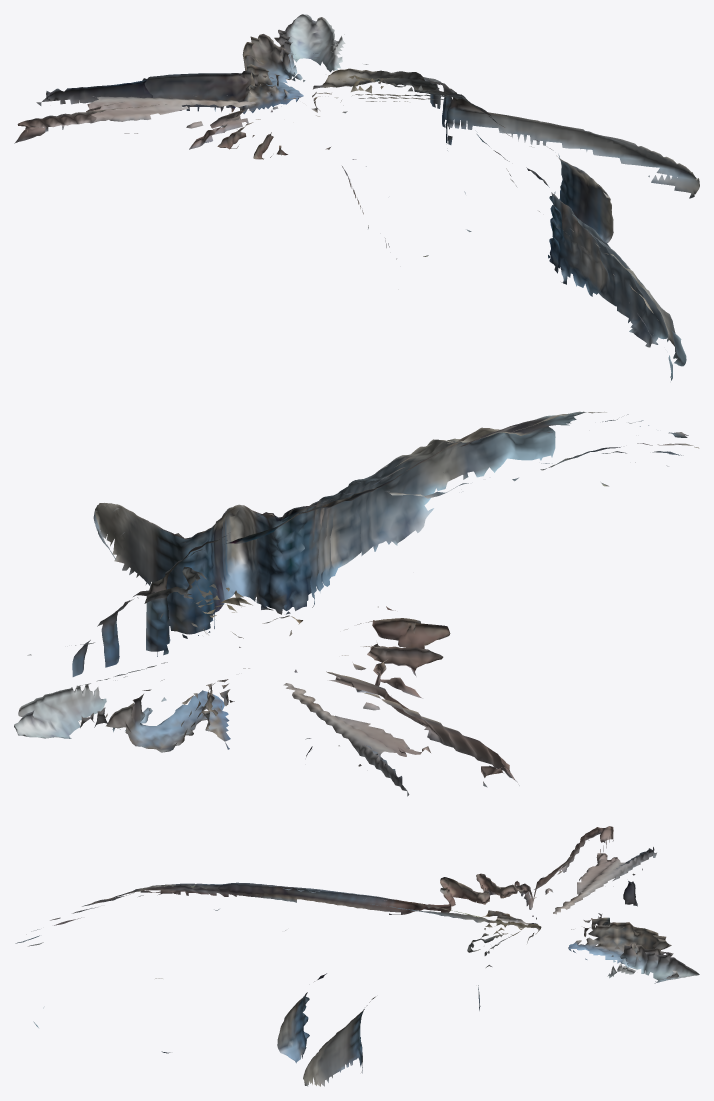
File: paris-collider.glb
3 renders of one model, top to bottom at view 1: azimuth 30°, elevation 25°; view 2: azimuth 150°, elevation 25°; view 3: azimuth 270°, elevation 25°, orthographic. The views are drawn at different scales.
Visible parts, largest first — view 1: world; view 2: world; view 3: world.
Part boxes in pixels (x1,y1,x2,y2): world: (14, 14, 699, 380); world: (14, 411, 699, 796); world: (15, 826, 699, 1086).
Size of the model in its own units: 167 by 39.54 by 227.
